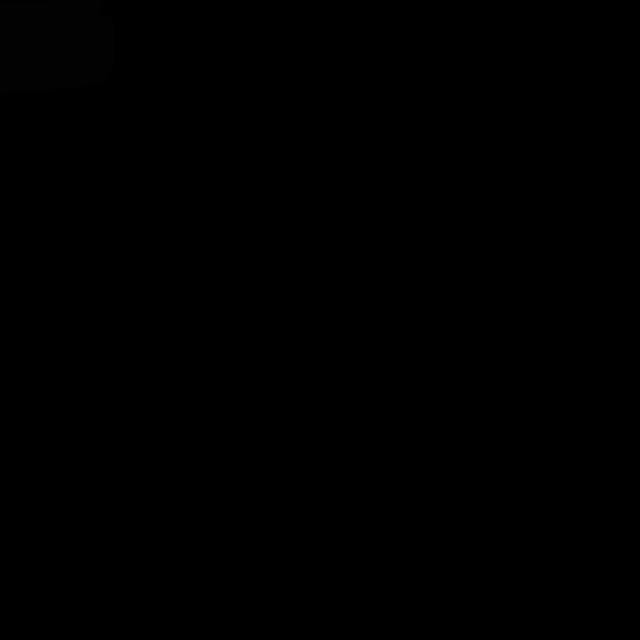cardboard: (0, 0, 114, 95)
